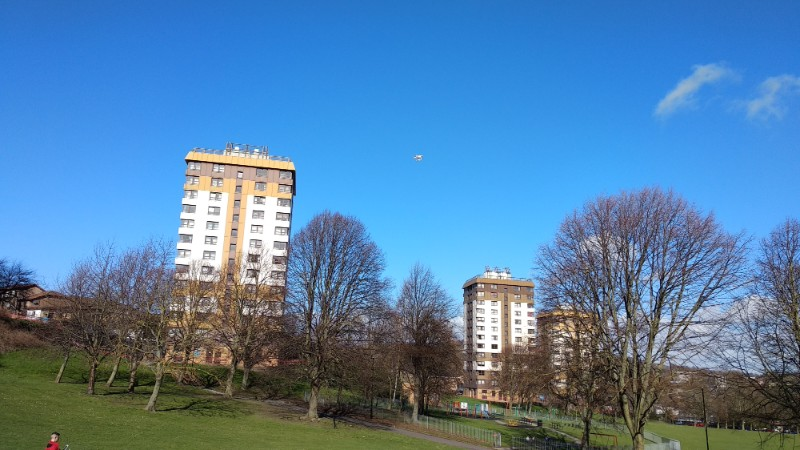drone: (412, 154, 423, 162)
